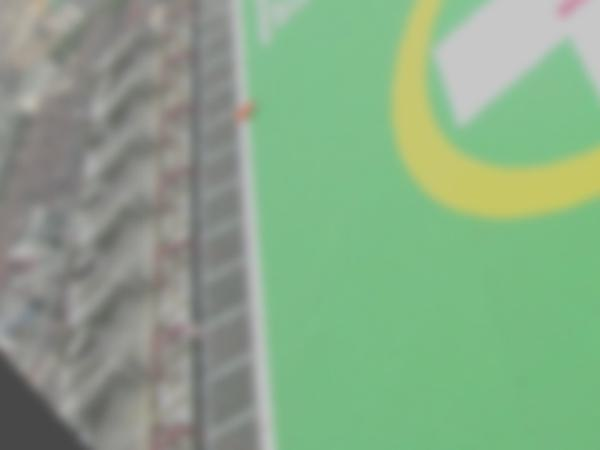Apron: (375, 5, 593, 225)
